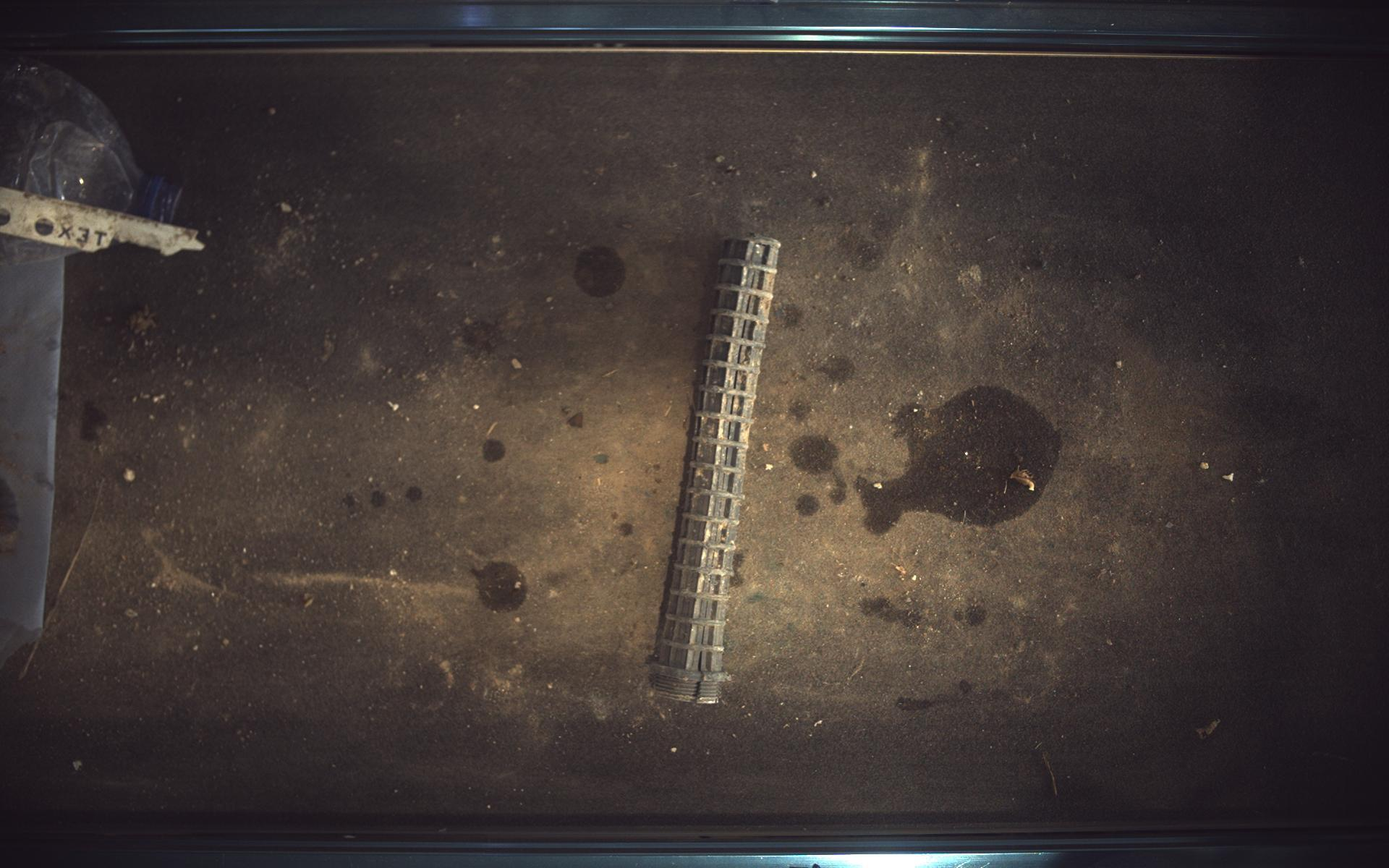plastic: (651, 235, 781, 705)
